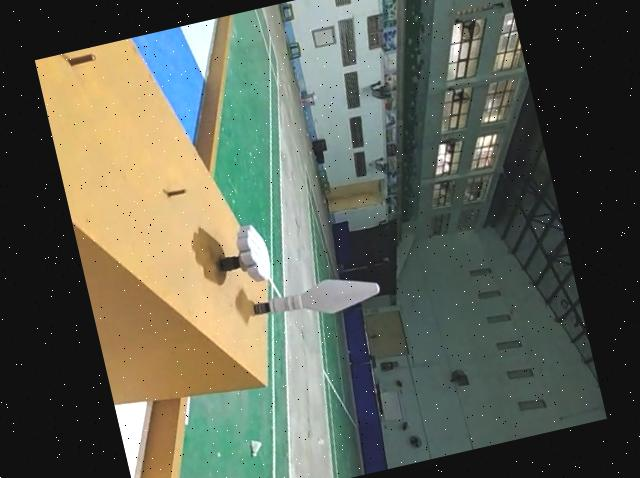Hand: (207, 220, 275, 290)
Sph: (244, 270, 380, 333)
